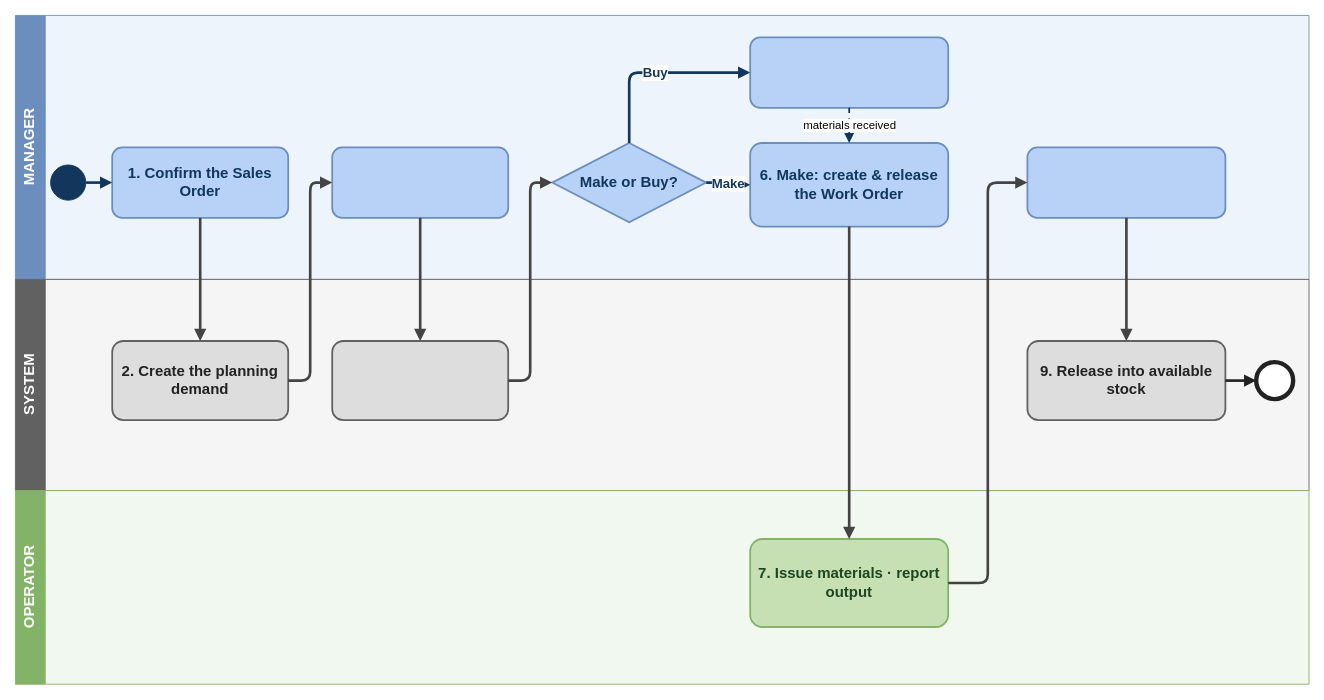
This 1324x700 diagram has some shape labels left out. The shapes that lost their labels are listed below. From the top down, each one's centre as x and y in pixels, then its label:
(849,72): 5. Buy: order & receive goods *not yet completed
(420,182): 3. Run material planning (MRP)
(1126,182): 8. Approve the receipt & record the quality decision
(420,380): 4. Explode the BOM, net off stock → supply proposals
